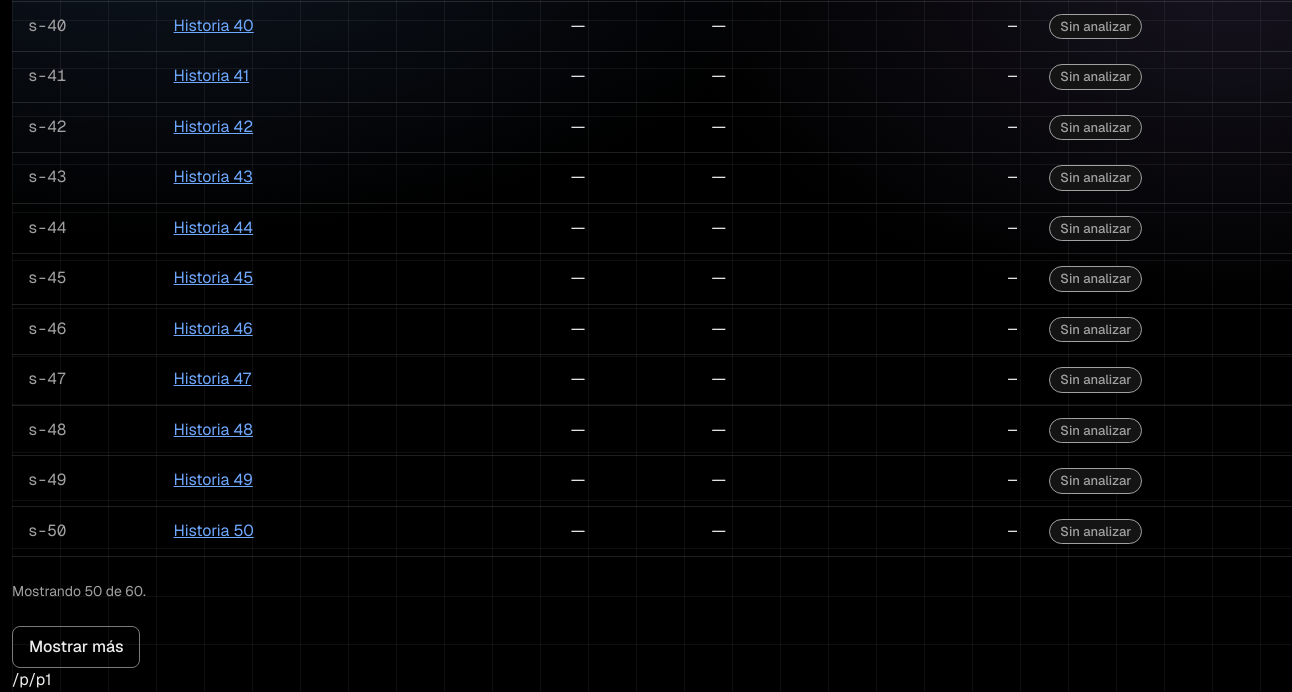
Test case: StoriesPage › tras «Mostrar más» el foco pasa a la primera fila nueva y se anuncia
(page scrolled)
Click the button "Mostrar más".
click(76, 647)  # box x1=12 y1=626 x2=140 y2=668
(page scrolled)
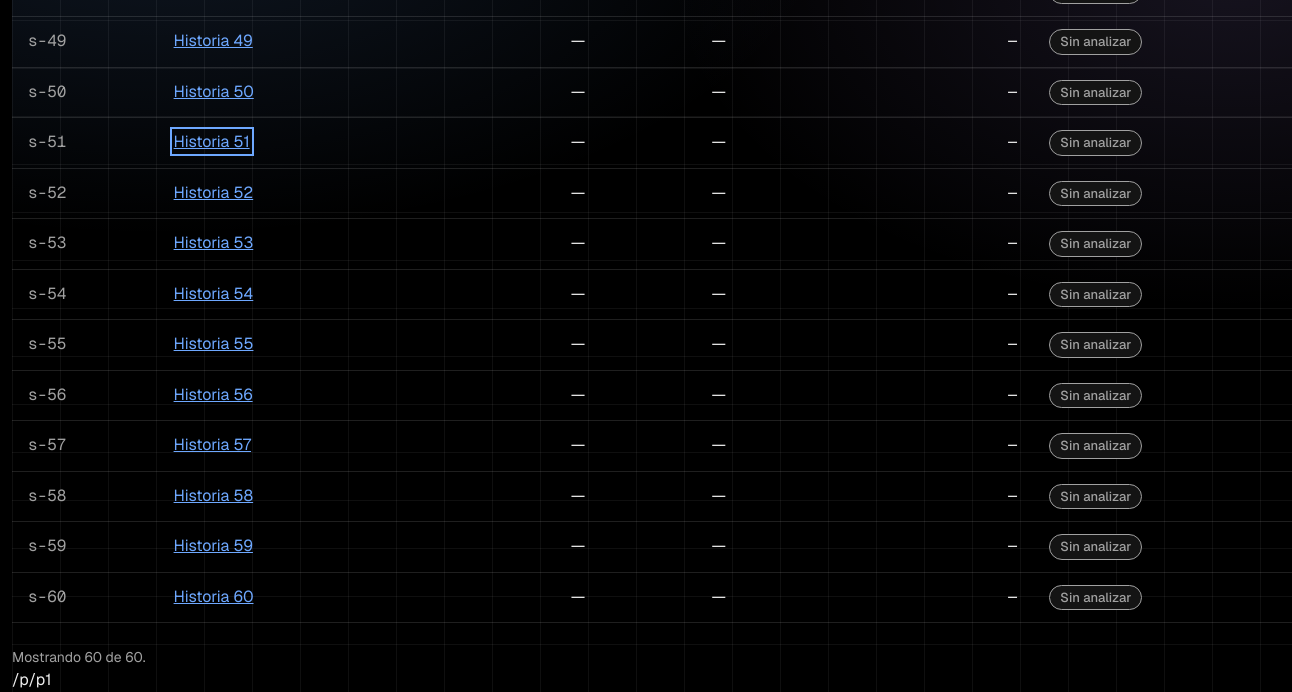
Expected: the button "Mostrar más" is gone
